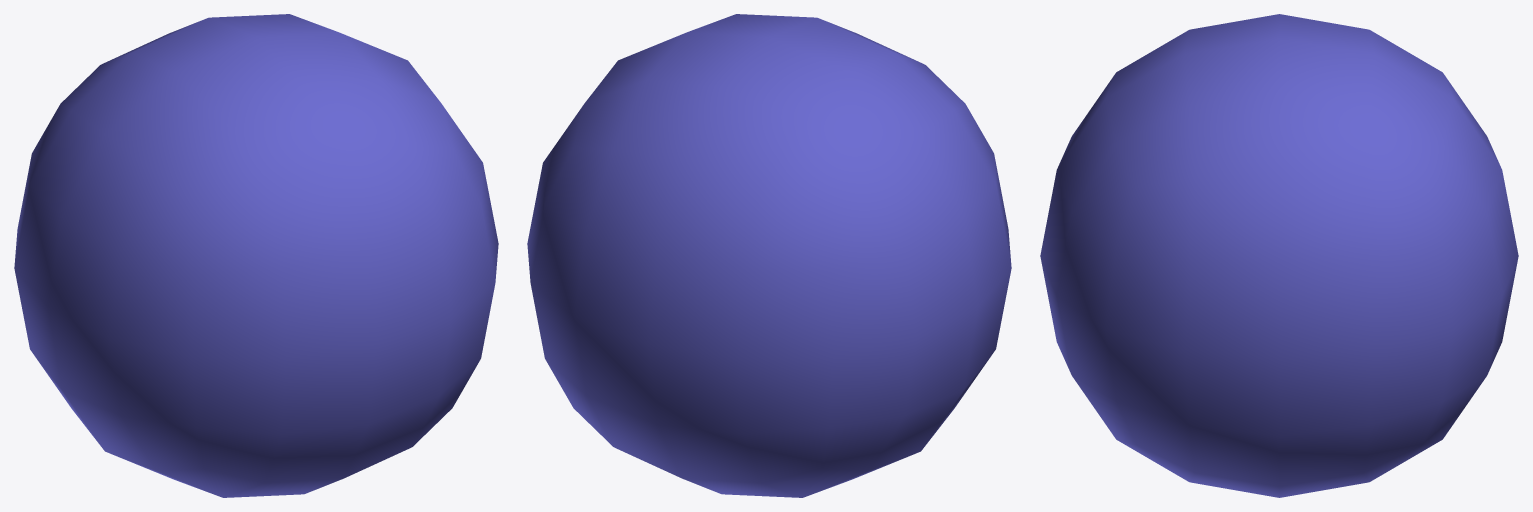
Rendered from ball.obj.
The picture shows the model from 3 angles, left to right: view 1: azimuth 30°, elevation 25°; view 2: azimuth 150°, elevation 25°; view 3: azimuth 270°, elevation 25°; orthographic projection.
Parts seen in each view (by area): view 1: Cube_Cube.002; view 2: Cube_Cube.002; view 3: Cube_Cube.002.
Boxes of the visible parts, bbox=[...] form: Cube_Cube.002: bbox=[14, 14, 498, 497]; Cube_Cube.002: bbox=[527, 14, 1011, 497]; Cube_Cube.002: bbox=[1040, 14, 1518, 497].
Size of the model in its own units: 1.68 by 1.68 by 1.68.
